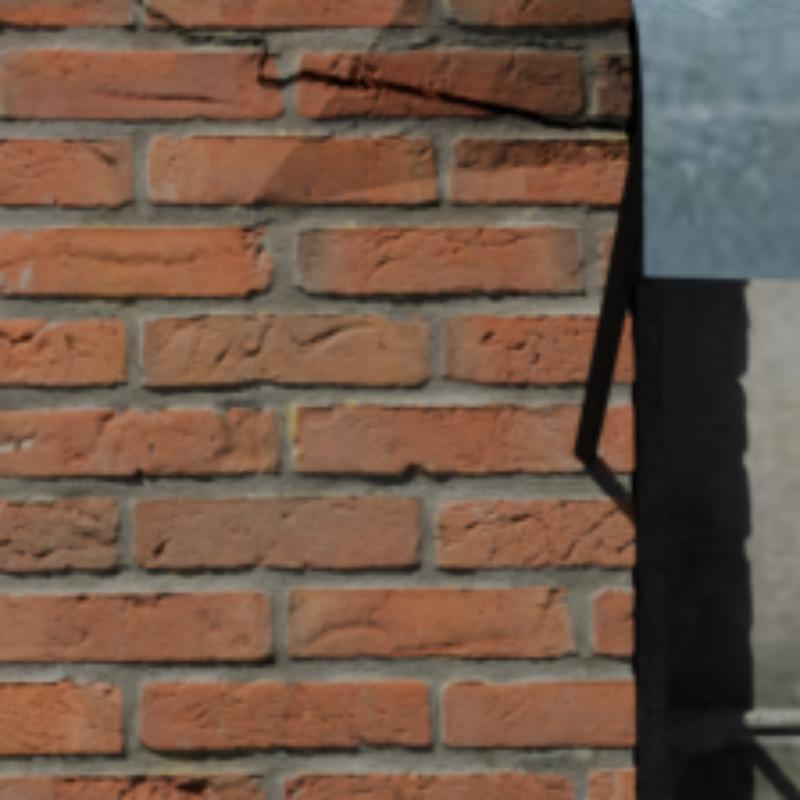crack: (146, 7, 618, 129)
